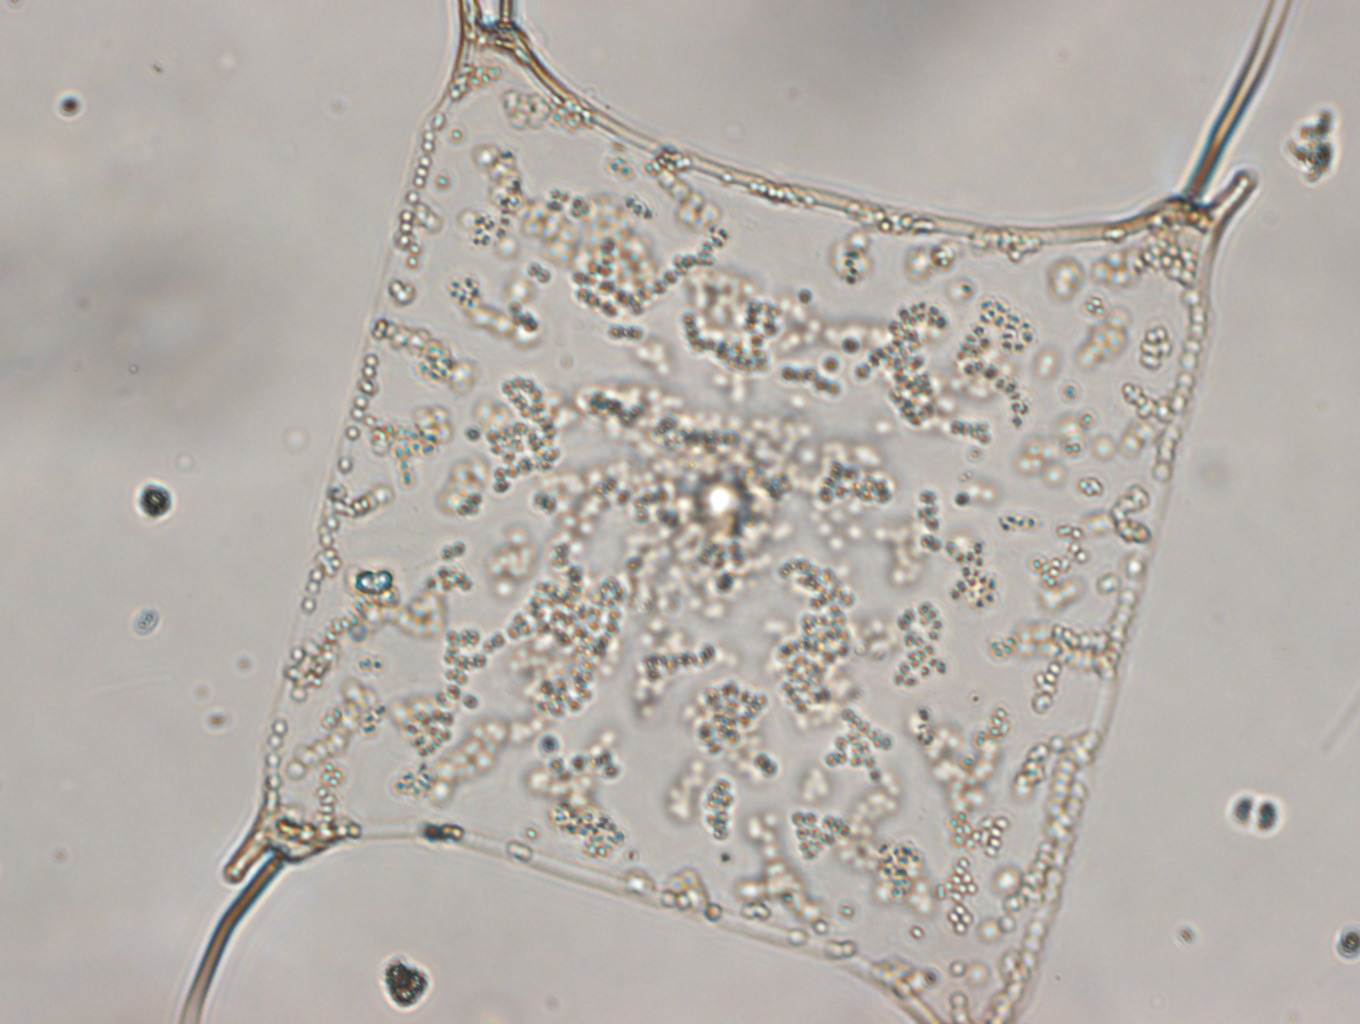biddulphia: (172, 3, 1302, 1024)
